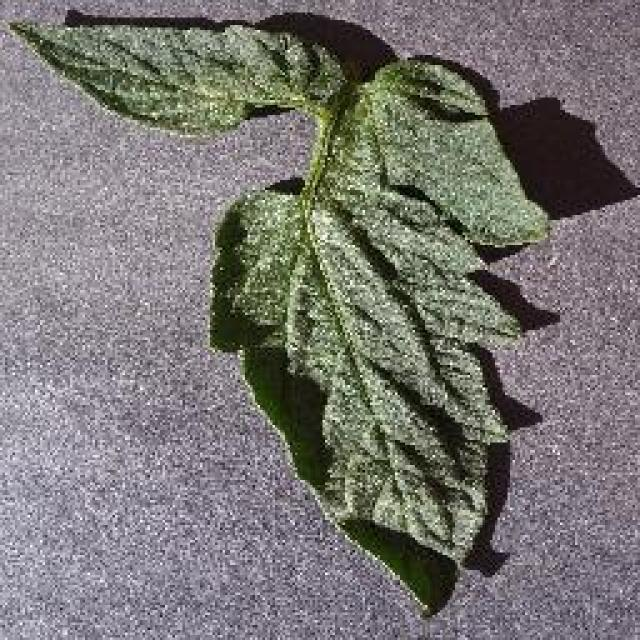Tomato___healthy: (11, 16, 553, 624)
